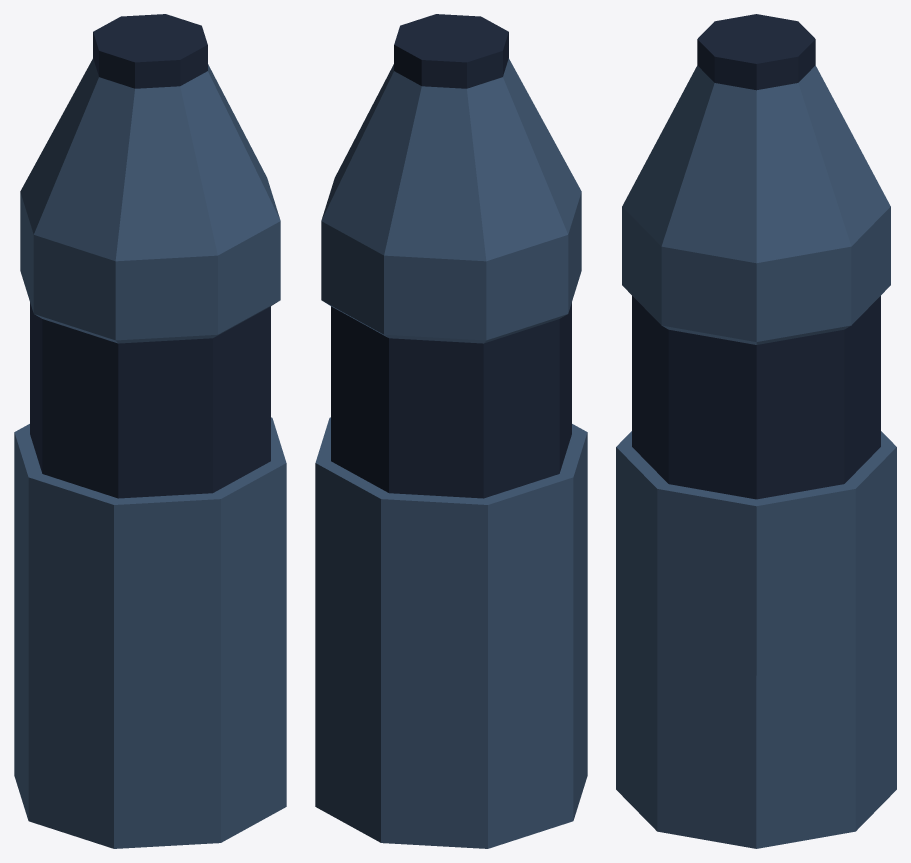
File: bootle.fbx
3 views of the same model, side by side, from view 1: azimuth 30°, elevation 25°; view 2: azimuth 150°, elevation 25°; view 3: azimuth 270°, elevation 25° (orthographic).
Parts seen in each view (by area): view 1: bootle; view 2: bootle; view 3: bootle.
Boxes of the visible parts, box(x1,y1,x2,y2) form: bootle: box(14, 14, 286, 848); bootle: box(315, 14, 587, 848); bootle: box(616, 14, 896, 848).
Bounding box in the file's own units: 40 × 118 × 40.
